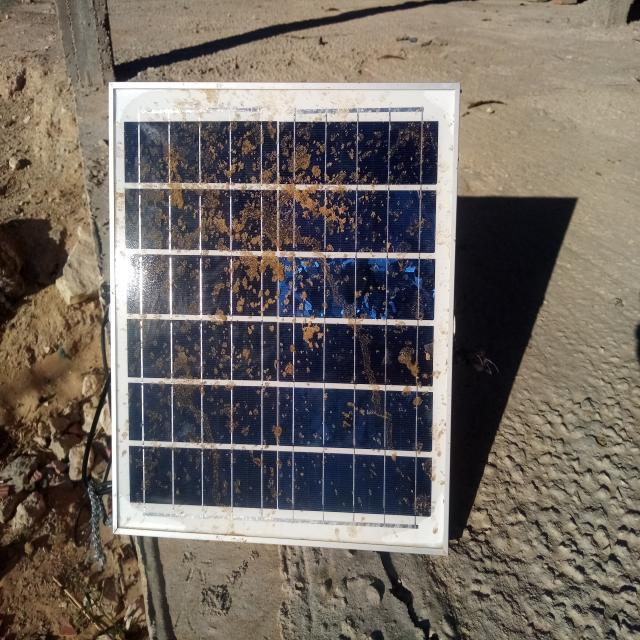faulty: (111, 86, 459, 554)
